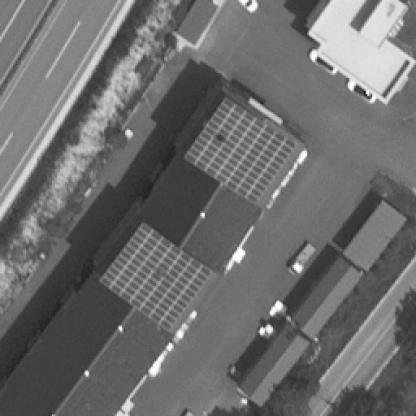solar-pv-panel: (98, 221, 213, 332), (182, 98, 296, 204)
